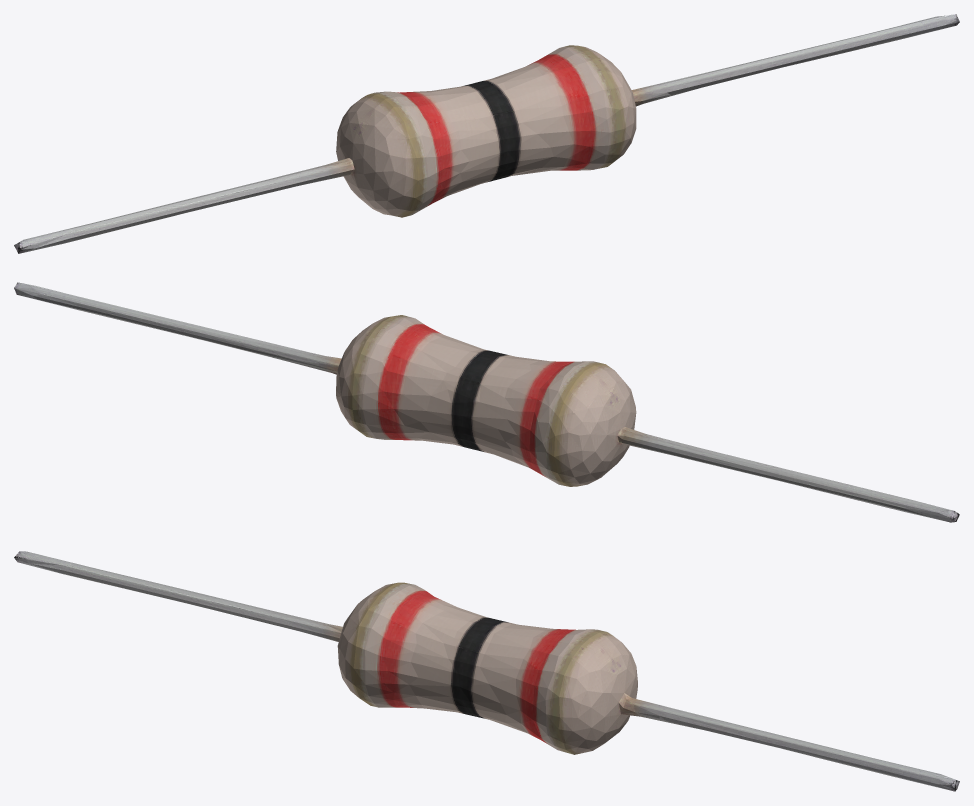
Rendered from Resistor.glb.
3 renders of one model, top to bottom at view 1: azimuth 30°, elevation 25°; view 2: azimuth 150°, elevation 25°; view 3: azimuth 330°, elevation 25°, orthographic.
Parts seen in each view (by area): view 1: world; view 2: world; view 3: world.
Boxes of the visible parts, x1=… form: world: x1=14, y1=14, x2=959, y2=253; world: x1=14, y1=282, x2=959, y2=522; world: x1=14, y1=551, x2=959, y2=791.
Size of the model in its own units: 0.9994 by 0.1142 by 0.1217.
1 material, 1 textured.
